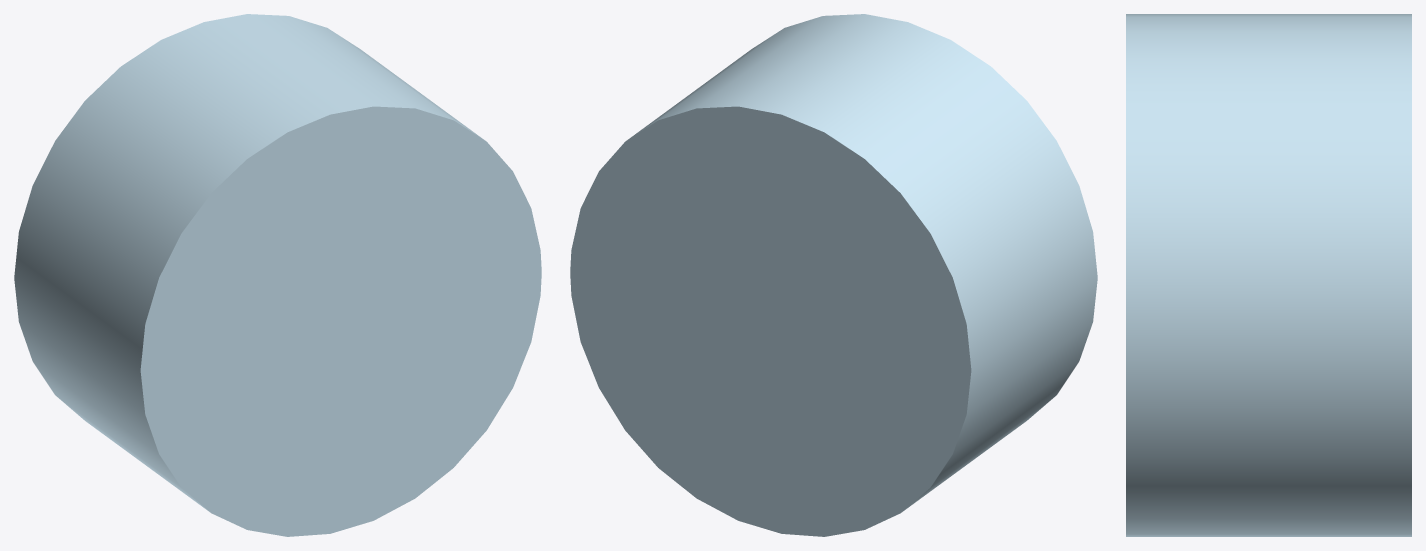
File: Lidar.gltf
3 views of the same model, side by side, from view 1: azimuth 30°, elevation 25°; view 2: azimuth 150°, elevation 25°; view 3: azimuth 270°, elevation 25° (orthographic). The views are drawn at different scales.
Parts seen in each view (by area): view 1: mesh42, mesh43; view 2: mesh44, mesh43; view 3: mesh43.
Part boxes in pixels (x1,y1,x2,y2): mesh42: (140, 106, 541, 536); mesh43: (14, 14, 483, 511); mesh44: (570, 106, 971, 536); mesh43: (628, 14, 1097, 511); mesh43: (1126, 14, 1411, 536).
Bounding box in the file's own units: 0.0757 × 0.0756 × 0.0413.
